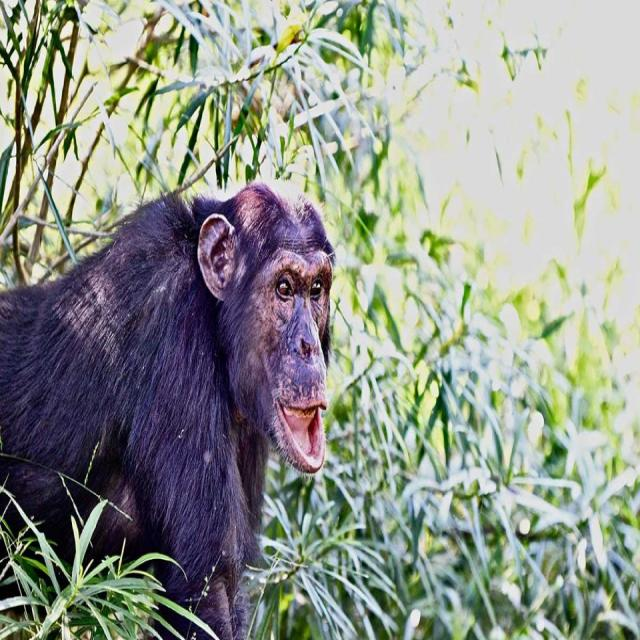chimpanzee: (0, 181, 333, 639)
